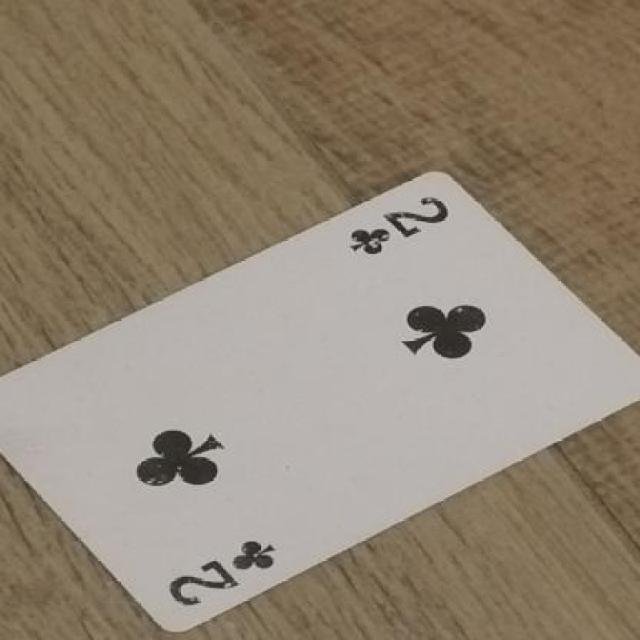2C: (327, 192, 462, 274), (161, 533, 301, 610)
